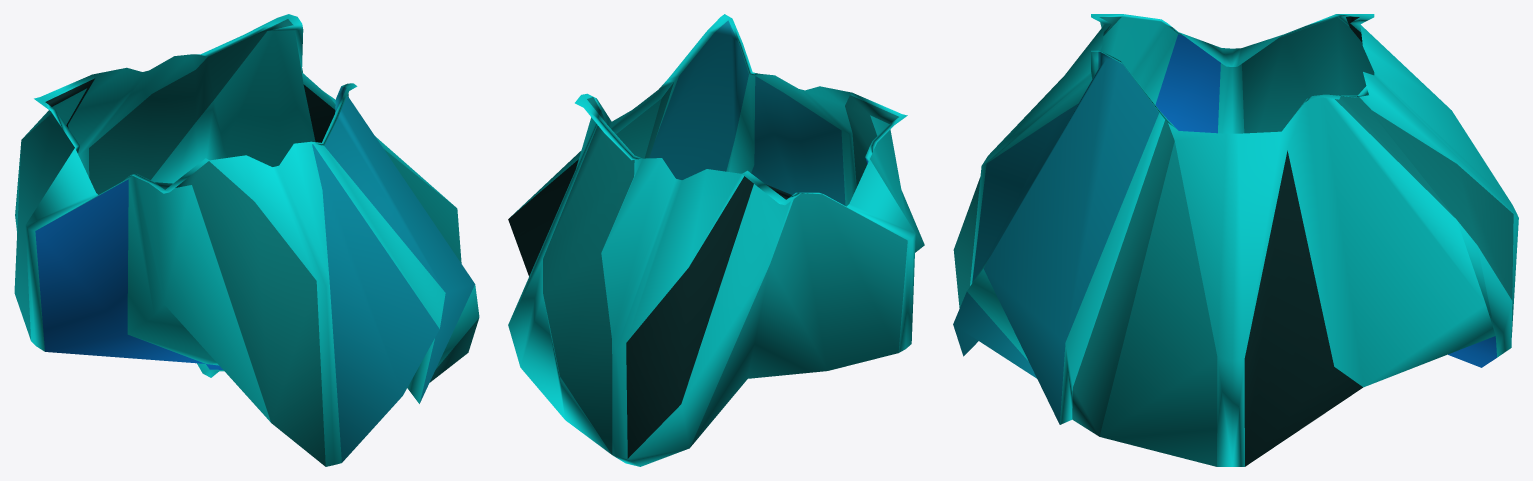
Rendered from OldNewspaper010.glb.
3 renders of one model, left to right at view 1: azimuth 30°, elevation 25°; view 2: azimuth 150°, elevation 25°; view 3: azimuth 270°, elevation 25°, orthographic. The views are drawn at different scales.
Parts seen in each view (by area): view 1: OldNewspaper010; view 2: OldNewspaper010; view 3: OldNewspaper010.
Part boxes in pixels (x1,y1,x2,y2): OldNewspaper010: (14, 14, 479, 466); OldNewspaper010: (508, 14, 924, 466); OldNewspaper010: (953, 14, 1518, 466).
Bounding box in the file's own units: 0.0475 × 0.0351 × 0.0504.
